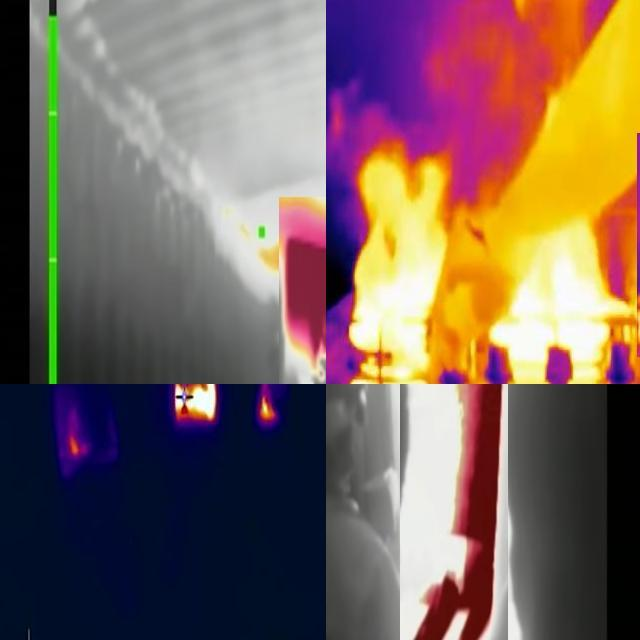fire: (400, 385, 508, 640), (352, 140, 446, 357), (484, 213, 616, 351), (279, 197, 327, 385), (172, 385, 219, 424), (256, 385, 278, 425)
